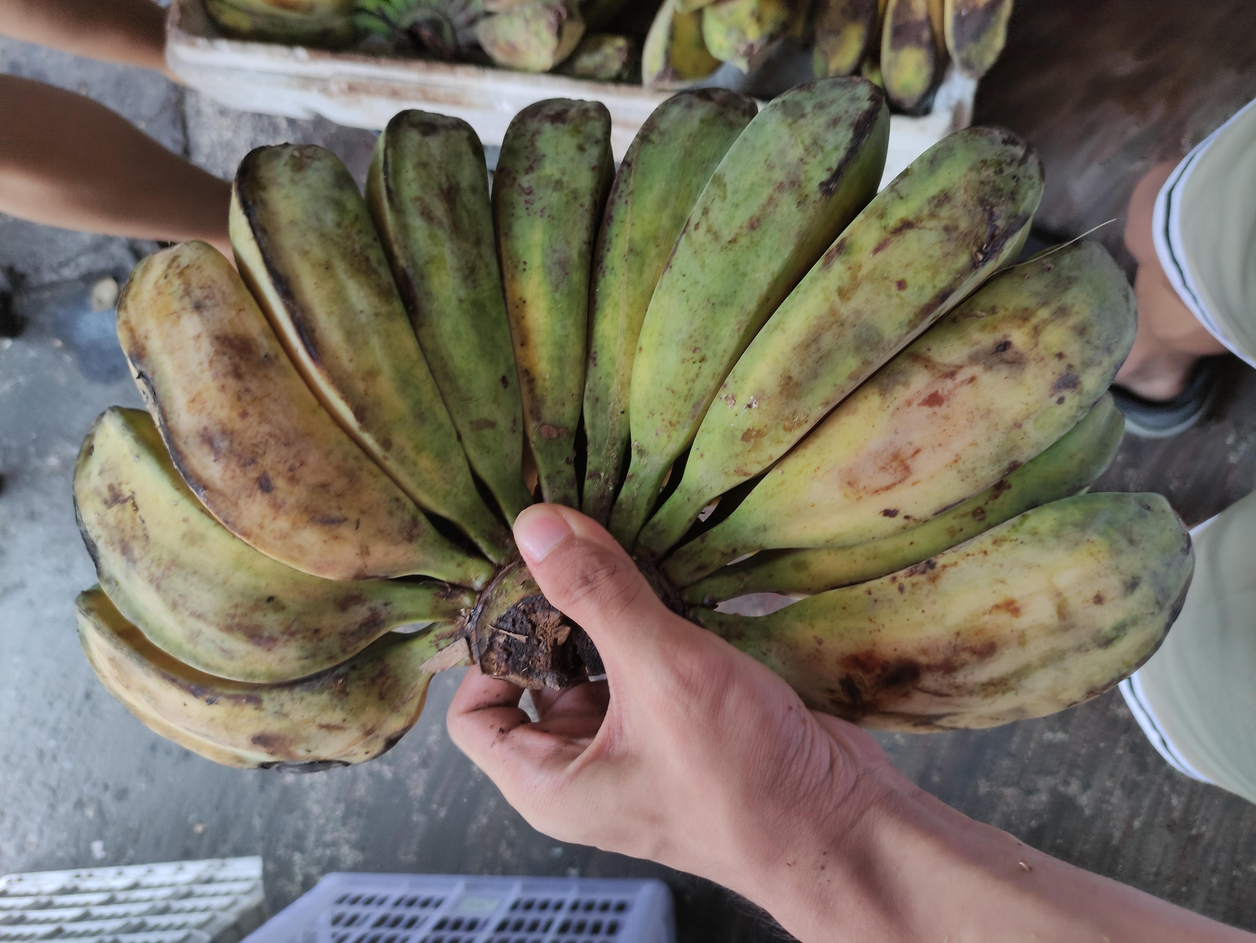underripe: (75, 79, 1193, 765)
